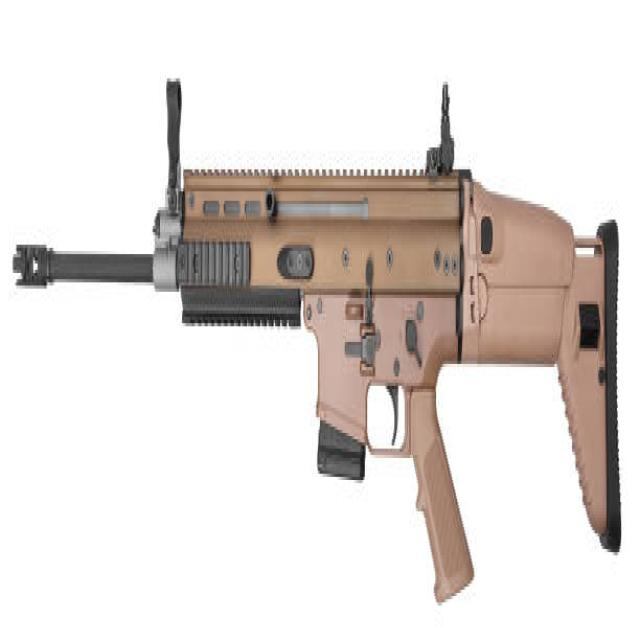rifle: (13, 55, 631, 636)
